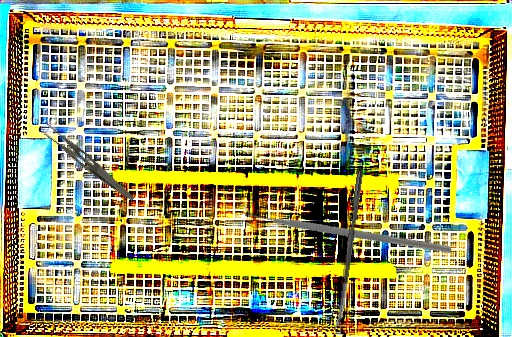Chopper: (239, 132, 453, 319)
Dressing Forceps: (36, 120, 142, 202)
Surgical Spoon: (333, 168, 364, 335)
